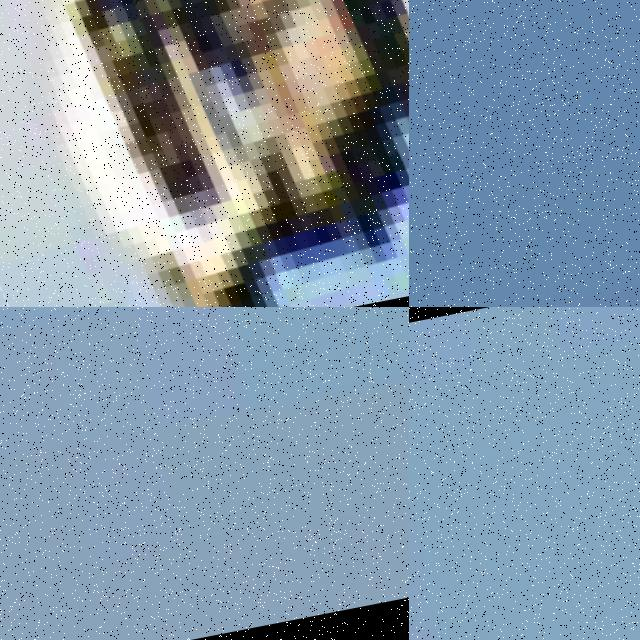drone: (0, 0, 409, 307)
